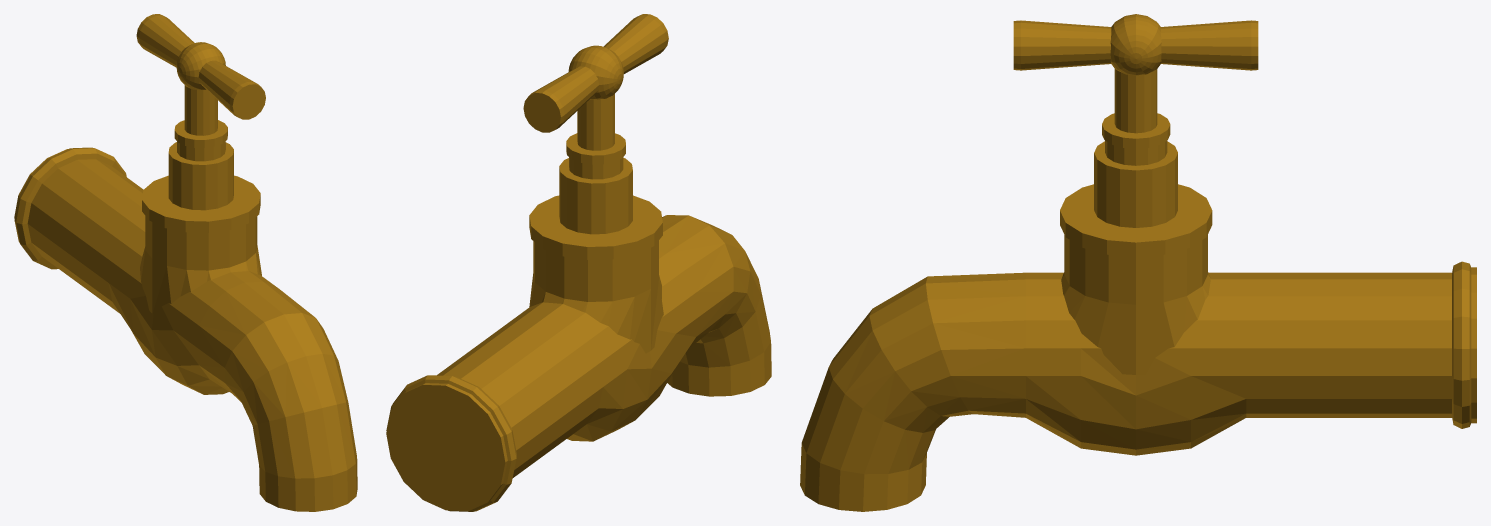
Rendered from garden-faucet.obj.
The picture shows the model from 3 angles, left to right: view 1: azimuth 30°, elevation 25°; view 2: azimuth 150°, elevation 25°; view 3: azimuth 270°, elevation 25°; orthographic projection. The views are drawn at different scales.
Parts seen in each view (by area): view 1: Cylinder; view 2: Cylinder; view 3: Cylinder.
Boxes of the visible parts, box(x1,y1,x2,y2) form: Cylinder: box(14, 14, 357, 511); Cylinder: box(386, 14, 771, 511); Cylinder: box(800, 14, 1476, 511).
Size of the model in its own units: 4.96 by 15.27 by 20.
